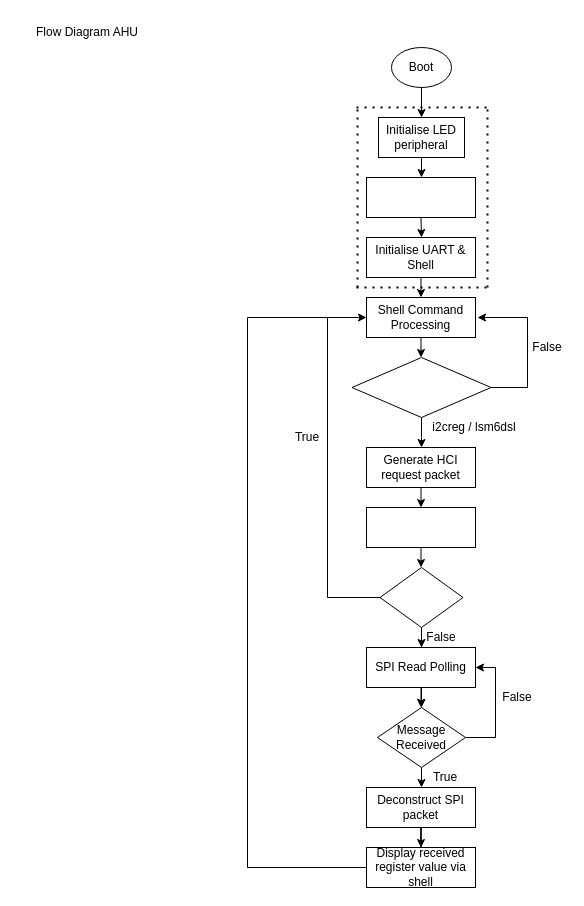
This 584x906 diagram has some shape labels left out. Here are the shapes that lost their labels. From the top down, the centre of each, then its label:
point 421,197: Initialise SPI
point 421,387: Shell Command Received
point 421,527: Send HCI packet via SPI
point 421,597: Write Flag
